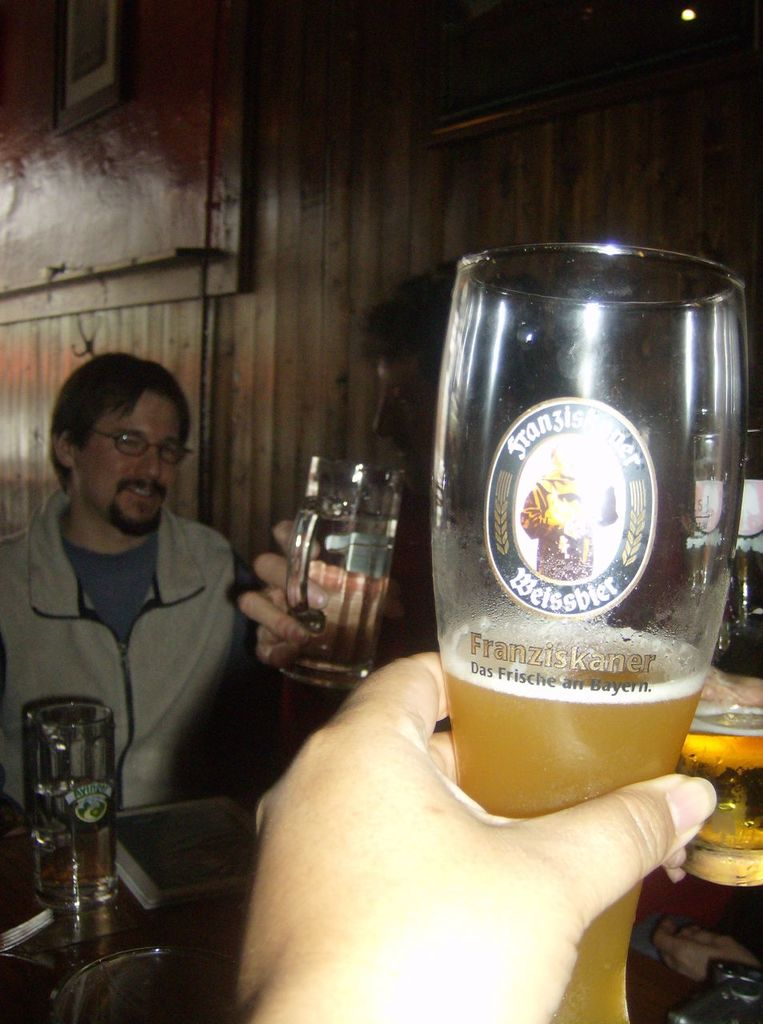Beer: (442, 626, 706, 1023), (679, 703, 762, 893)
